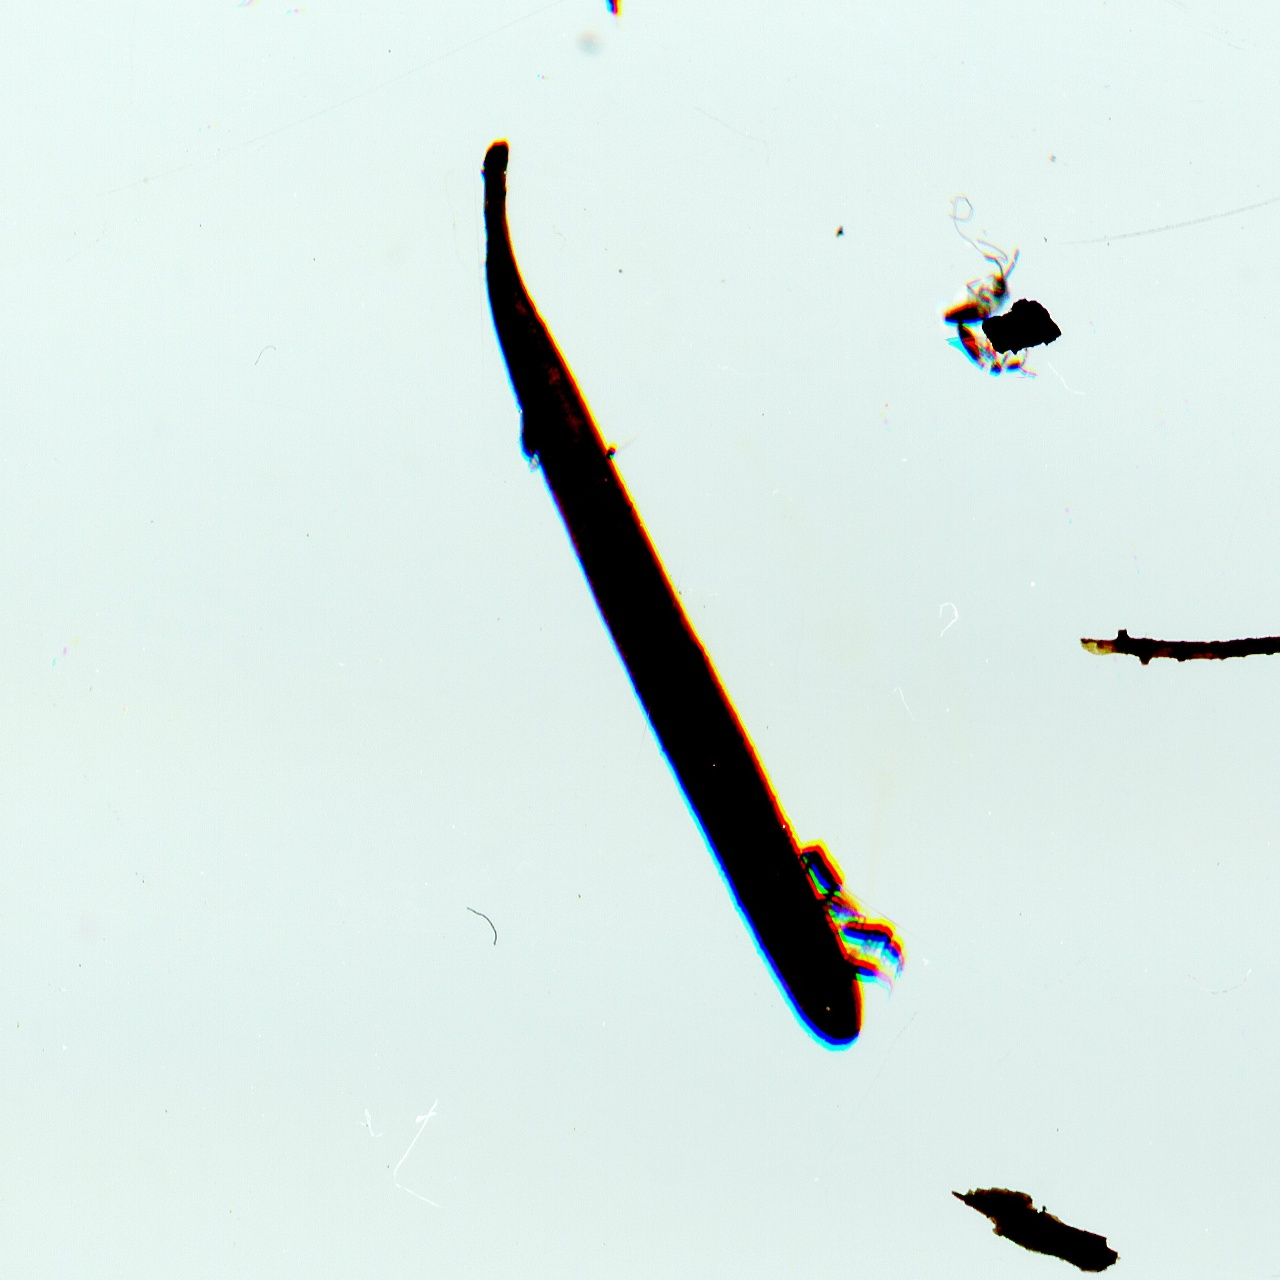arthropod: (940, 244, 1026, 334), (783, 829, 859, 921), (944, 319, 1042, 383), (840, 913, 911, 985), (828, 943, 905, 1007), (818, 892, 865, 921), (596, 0, 627, 30), (229, 0, 280, 12)
